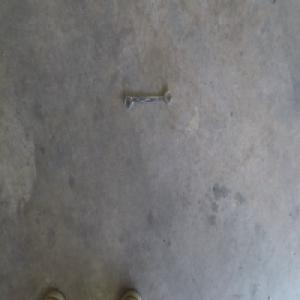Wrench: (124, 90, 172, 109)
